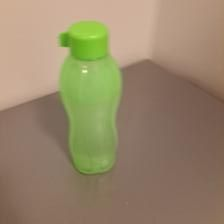bottle: (54, 18, 122, 174)
